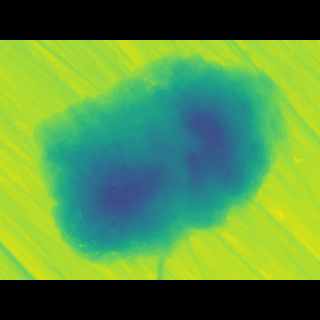Loch: (34, 78, 303, 240)
